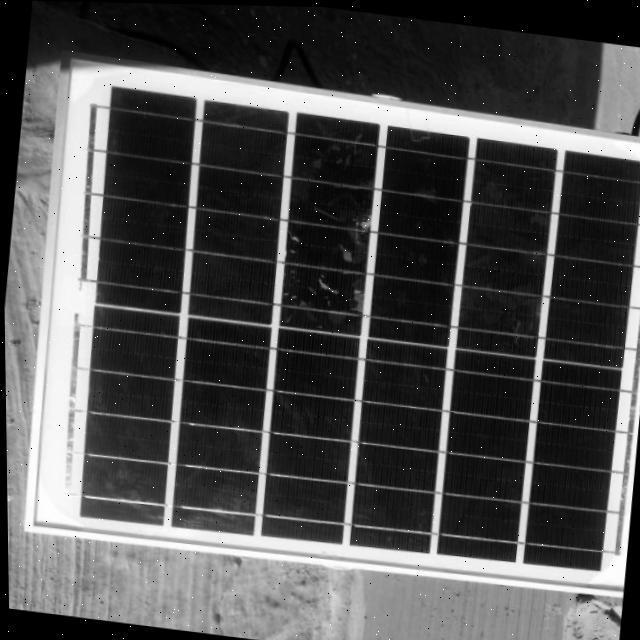Normal Solar Panel: (15, 50, 640, 603)
